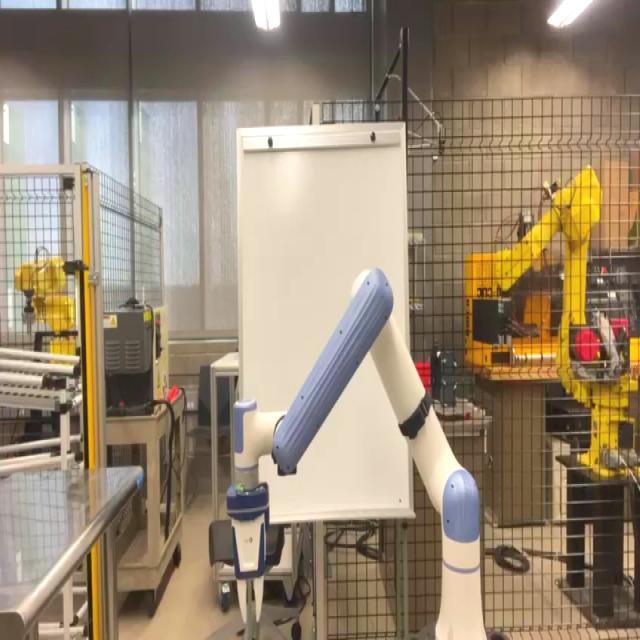robot: (210, 266, 506, 638)
